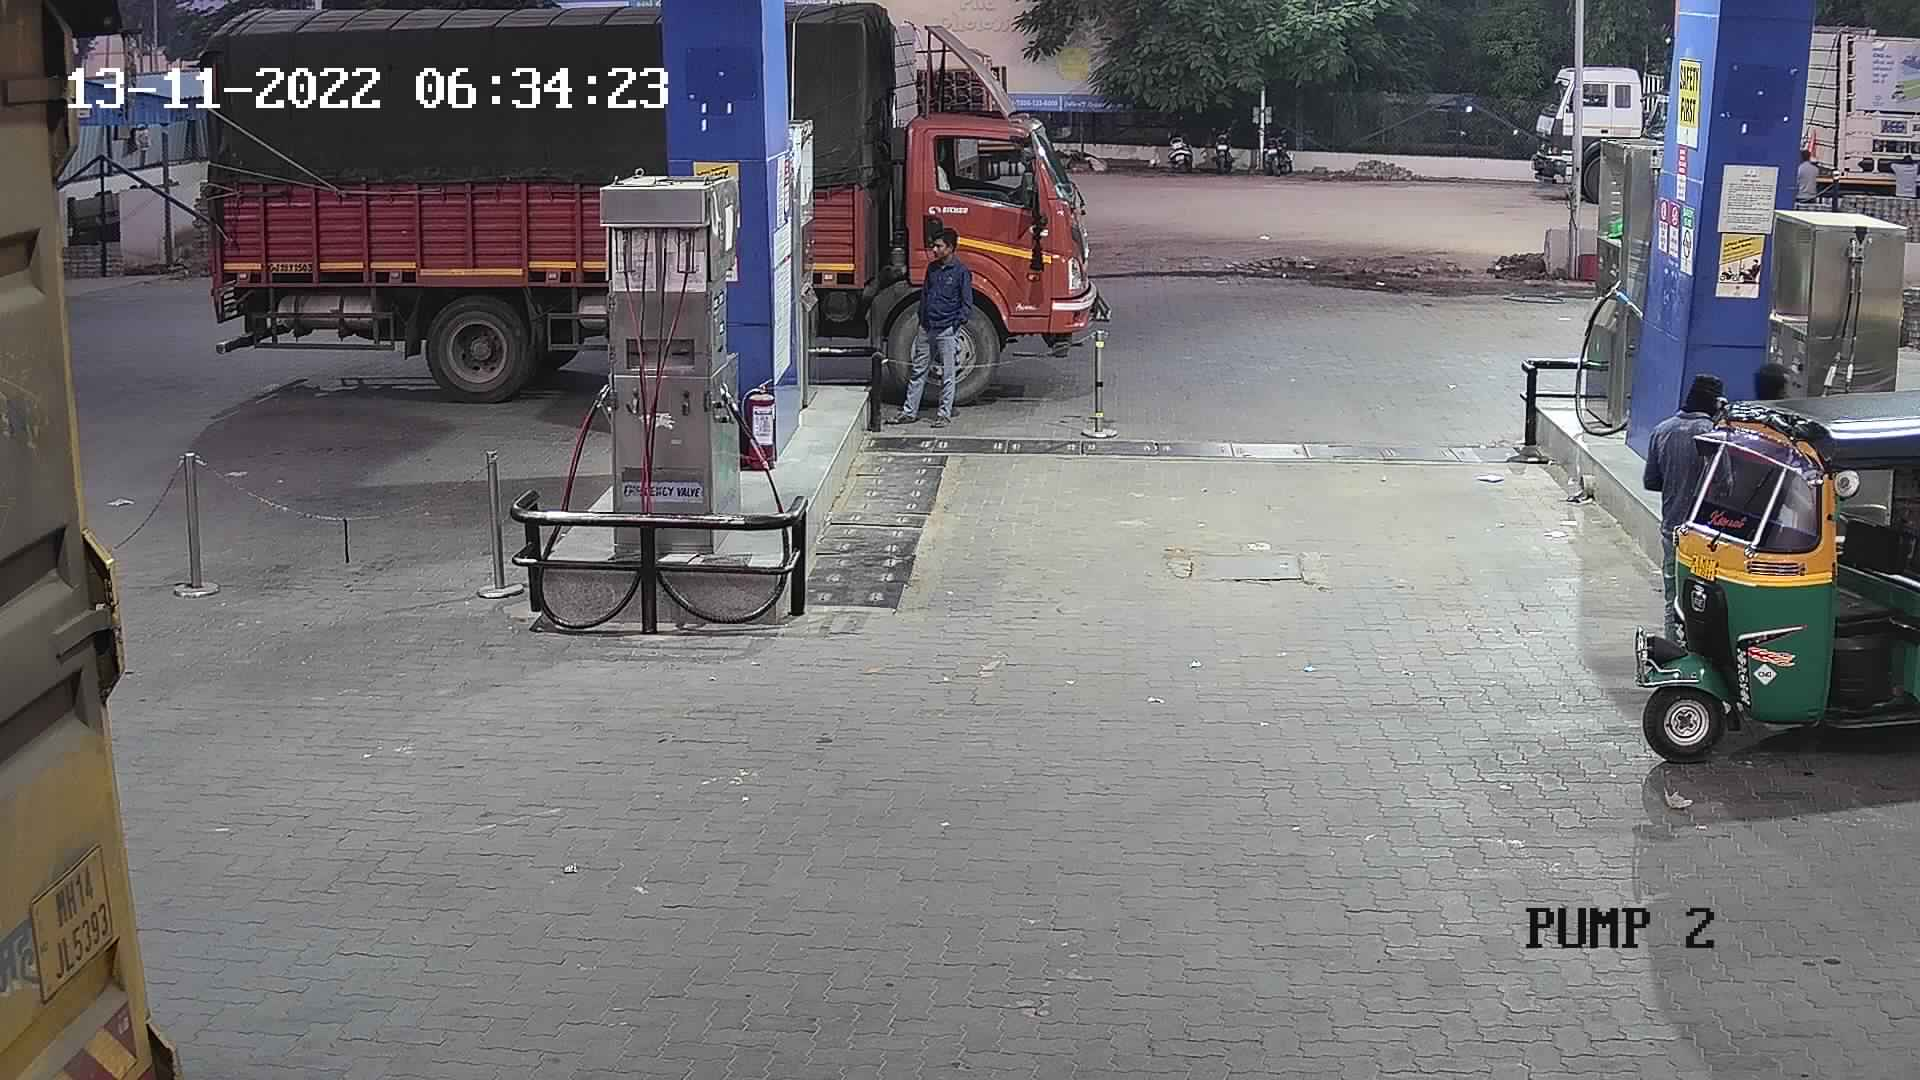Auto: (1618, 348, 1916, 791)
Bike: (1254, 121, 1299, 181), (1155, 123, 1203, 173), (1200, 123, 1241, 179)
HMV: (3, 0, 216, 1077), (160, 1, 674, 410), (1770, 11, 1915, 204), (1524, 32, 1675, 215), (903, 13, 1031, 133)
